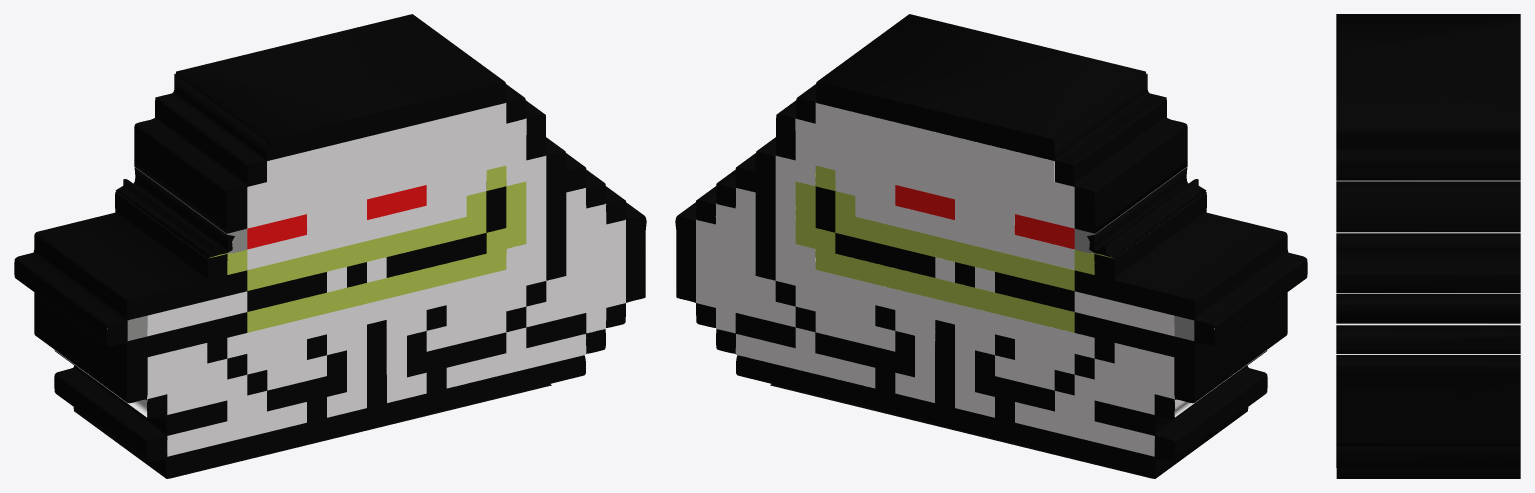
The model's file is Toadz_4888.glb.
The picture shows the model from 3 angles, left to right: view 1: azimuth 30°, elevation 25°; view 2: azimuth 150°, elevation 25°; view 3: azimuth 270°, elevation 25°; orthographic projection.
Parts seen in each view (by area): view 1: Curve; view 2: Curve; view 3: Curve.
Part boxes in pixels (x1,y1,x2,y2): Curve: (14, 14, 646, 478); Curve: (675, 14, 1307, 478); Curve: (1336, 14, 1520, 478).
Bounding box in the file's own units: 3.37 × 1.88 × 1.
